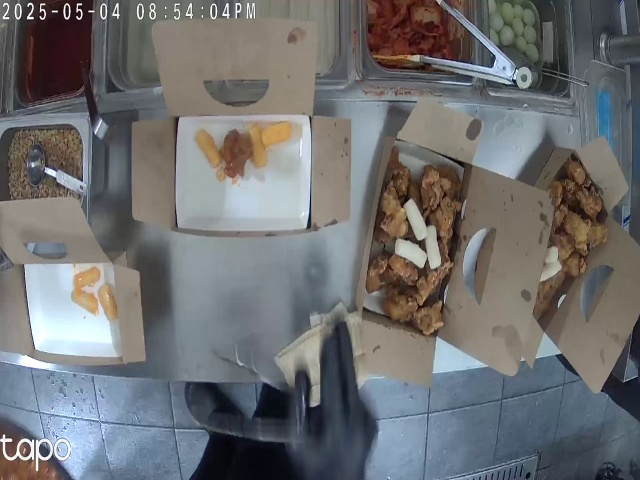delivery box: (125, 18, 359, 240), (368, 98, 522, 427), (526, 127, 640, 387), (0, 196, 138, 358)
food: (545, 155, 605, 312), (379, 150, 434, 314)
hand: (287, 328, 379, 480)
